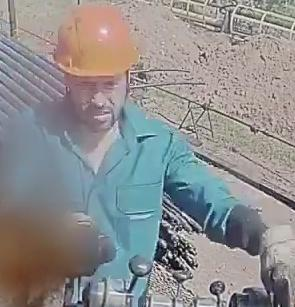gloves: (224, 203, 295, 307), (31, 208, 119, 282)
helmet: (53, 3, 139, 77)
vest: (0, 99, 207, 306)
